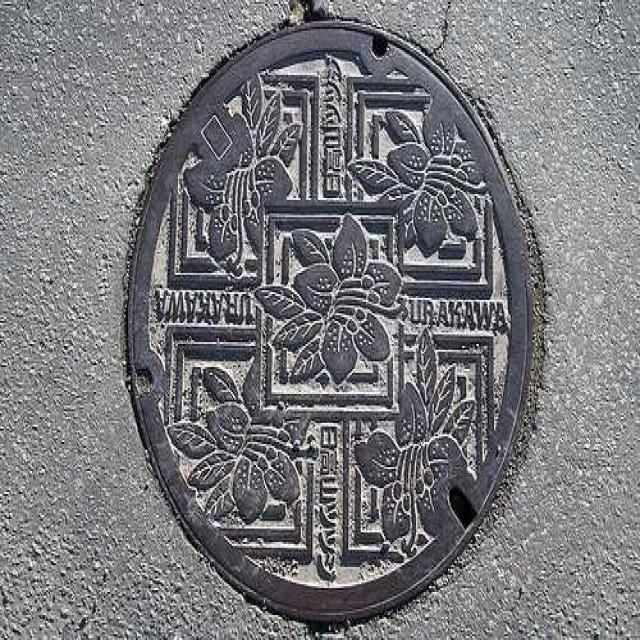manhole: (129, 23, 531, 621)
